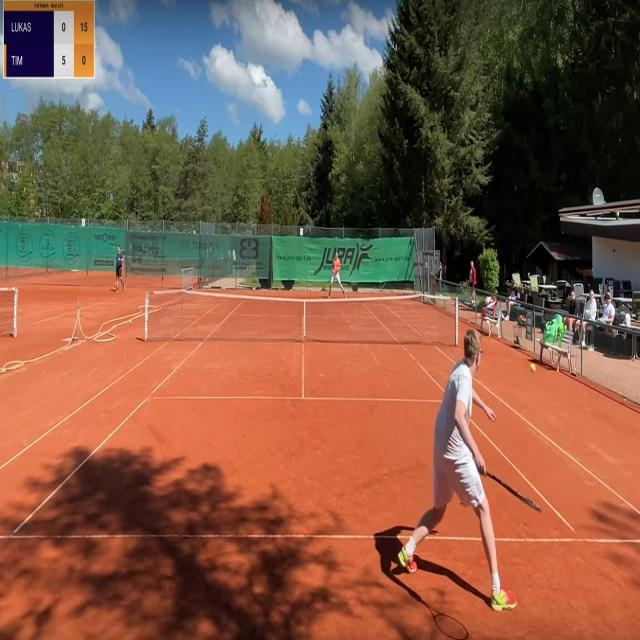ball: (530, 363, 536, 374)
